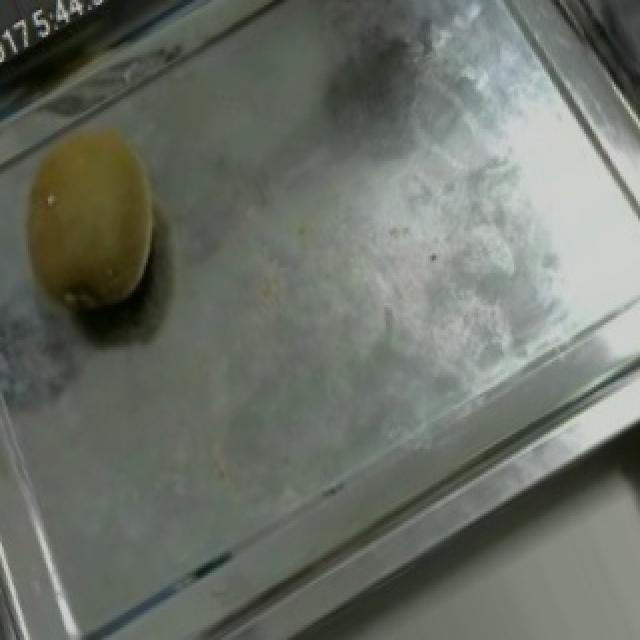Fruit: (2, 95, 202, 352)
